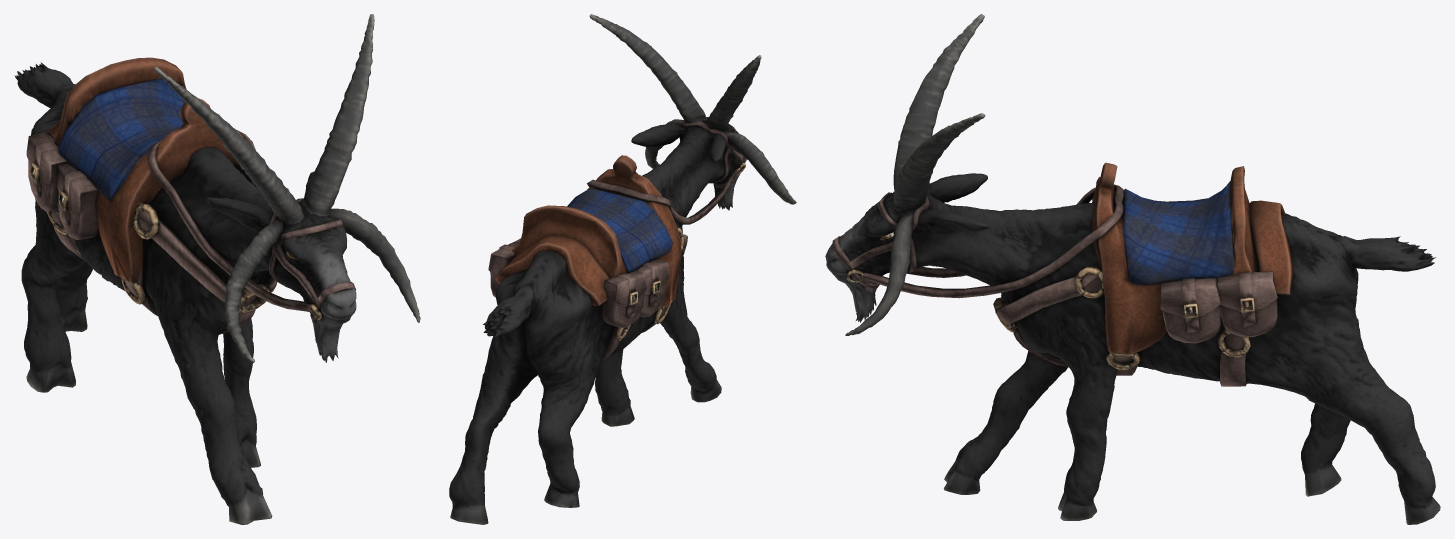
Rendered from MZ4250 - Giant Goat Mount_2025.glb.
The picture shows the model from 3 angles, left to right: view 1: azimuth 30°, elevation 25°; view 2: azimuth 150°, elevation 25°; view 3: azimuth 270°, elevation 25°; orthographic projection. The views are drawn at different scales.
Visible parts, largest first — view 1: Gaot.001; view 2: Gaot.001; view 3: Gaot.001.
Boxes of the visible parts, <box> form: Gaot.001: <box>14,14,420,524</box>; Gaot.001: <box>449,14,796,524</box>; Gaot.001: <box>825,14,1440,524</box>.
Bounding box in the file's own units: 57.15 × 116 × 147.
Materials: 1 (1 with a texture image).
